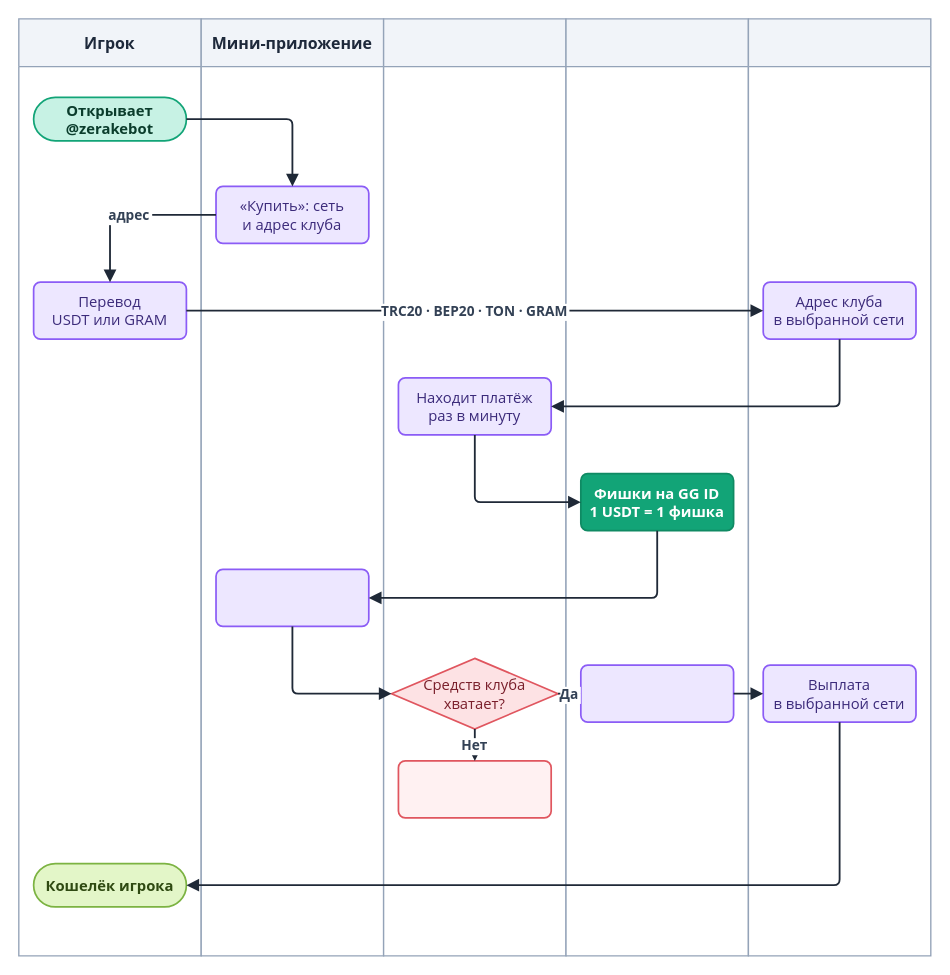
This 950x975 diagram has some shape labels left out. The box of each missing label's shape, as (x1, y1, x2, y2) in pixels:
ClubGG: (565, 18, 749, 956)
Zerake: (382, 18, 566, 956)
«Продать»: сеть и сумма: (215, 568, 369, 627)
Адреса клуба: (747, 18, 931, 956)
Менеджер снимает фишки с GG ID: (579, 664, 734, 723)
Отказ: другая сеть или сумма: (397, 760, 552, 818)
